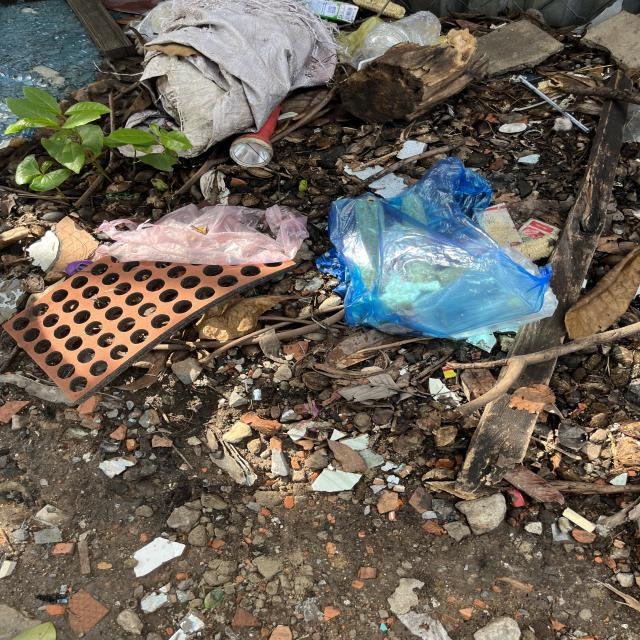bag: (92, 202, 309, 266)
trash bag: (314, 155, 562, 353)
